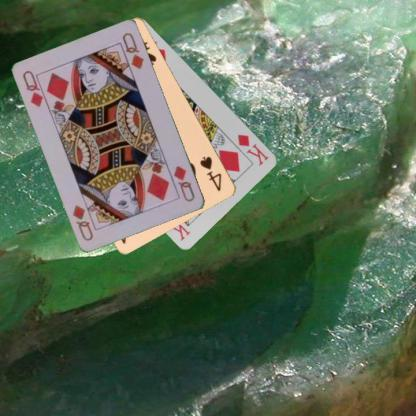4s: (198, 154, 224, 192)
Kd: (235, 131, 270, 167)
Qd: (20, 68, 51, 108), (171, 162, 196, 204)
